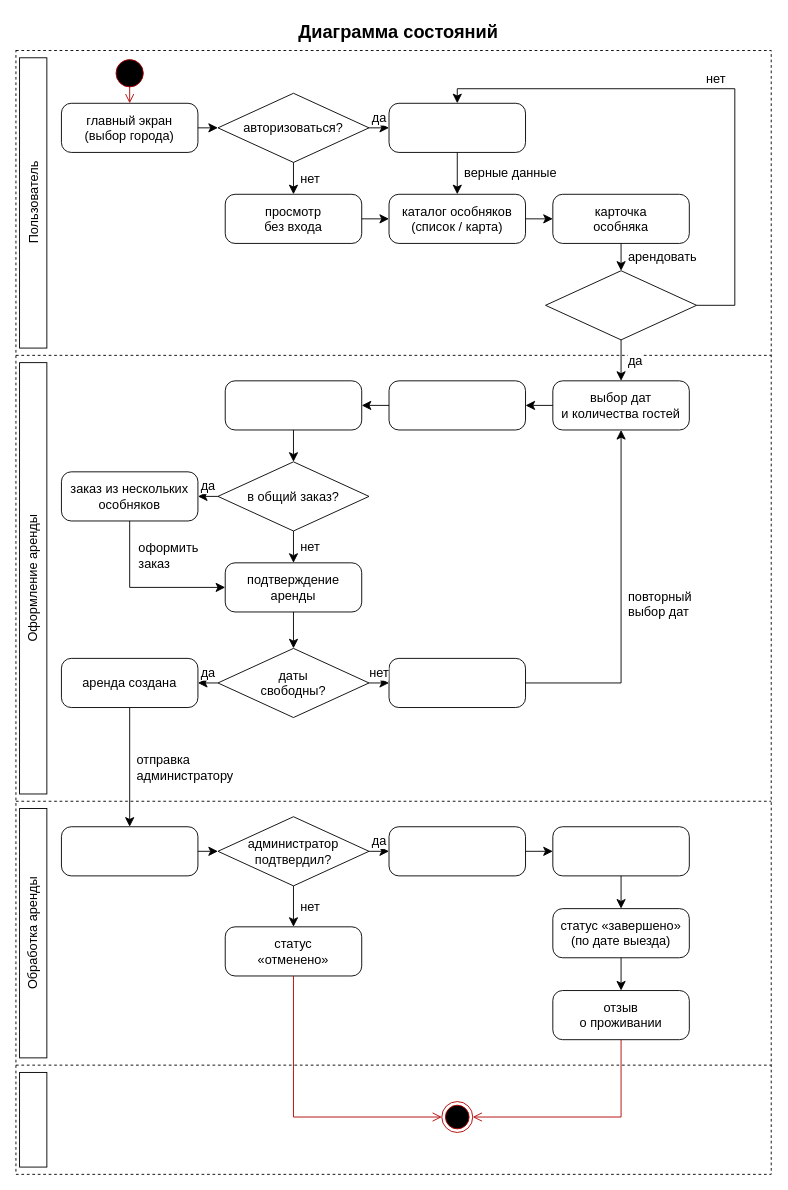
Some shapes in this 788 by 1190 pixel diagram are drawn without their labels. Each missing label, with the centre of its shape:
"ввод email и пароля" goes at (x=457, y=127).
"вход выполнен?" goes at (x=621, y=305).
"выбор VIP-услуг" goes at (x=457, y=405).
"Завершение" goes at (x=33, y=1119).
"проживание в особняке" goes at (x=620, y=851).
"расчёт стоимости (скидки)" goes at (x=293, y=405).
"сообщение об ошибке" goes at (x=457, y=682).
"статус «ожидает подтверждения»" goes at (x=129, y=851).
"статус «подтверждено»" goes at (x=457, y=851).
